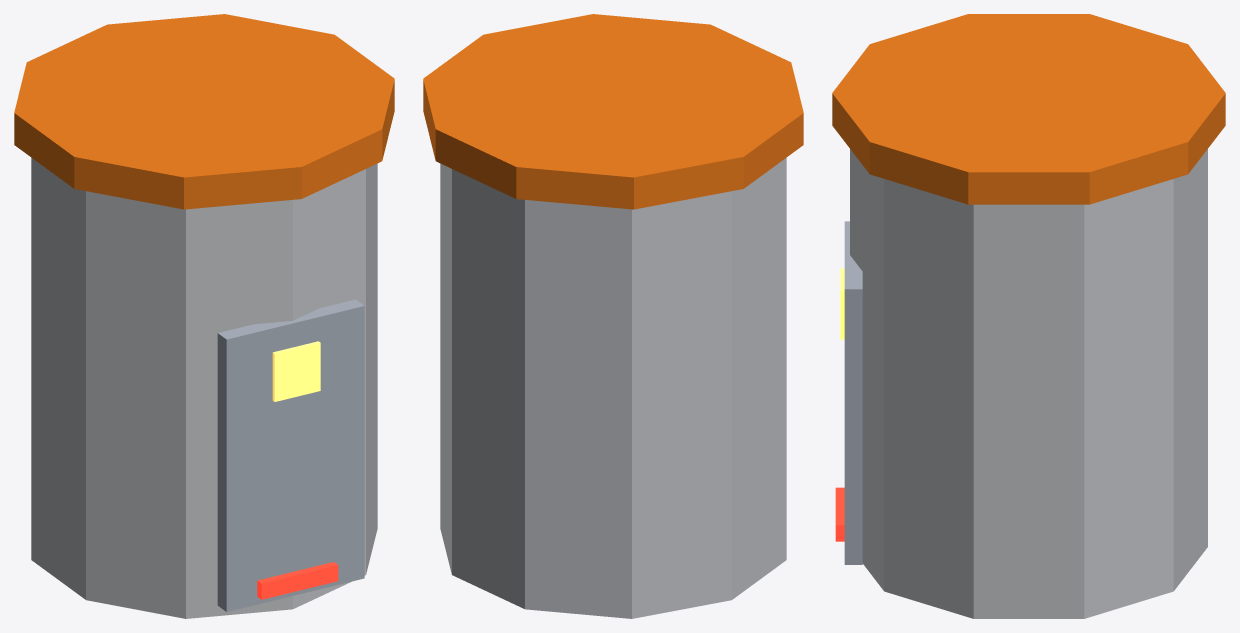
File: lunar-airlock.glb
The picture shows the model from 3 angles, left to right: view 1: azimuth 30°, elevation 25°; view 2: azimuth 150°, elevation 25°; view 3: azimuth 270°, elevation 25°; orthographic projection.
Visible parts, largest first — view 1: airlock; view 2: airlock; view 3: airlock.
Part boxes in pixels (bbox=[...]): airlock: bbox=[14, 14, 394, 618]; airlock: bbox=[423, 14, 803, 618]; airlock: bbox=[832, 14, 1225, 618].
Bounding box in the file's own units: 2.09 × 2.8 × 2.2.
